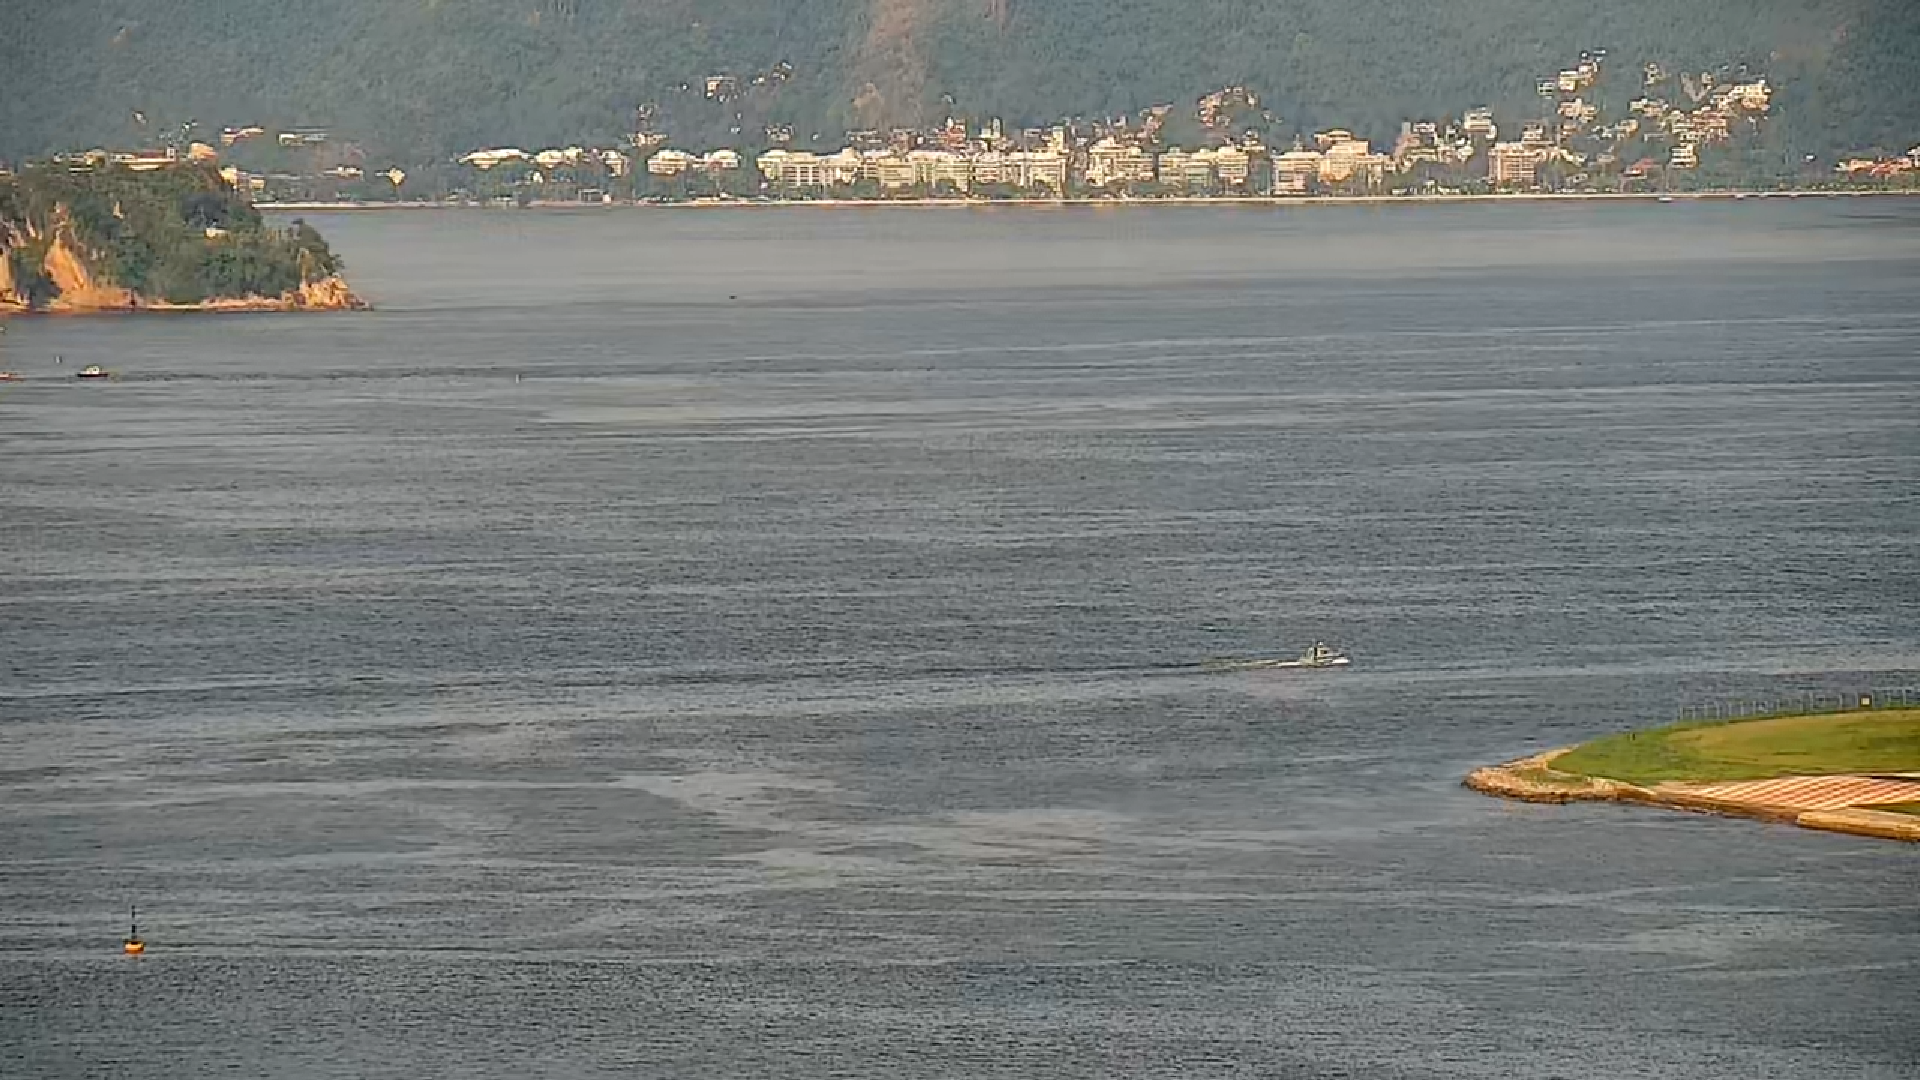Ship6: (1295, 630, 1353, 673)
Ship7: (73, 357, 111, 378)
